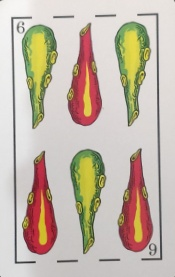6b: (8, 11, 161, 36)
